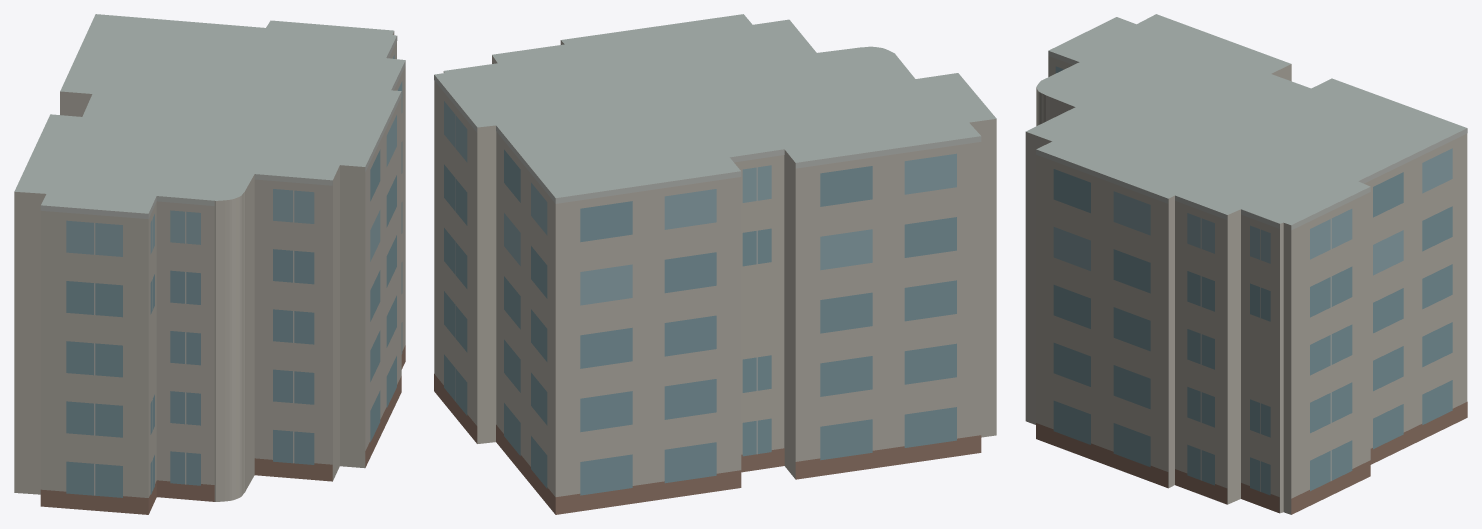
The model's file is survey-upis-32679581.glb.
3 views of the same model, side by side, from view 1: azimuth 30°, elevation 25°; view 2: azimuth 150°, elevation 25°; view 3: azimuth 270°, elevation 25° (orthographic). The views are drawn at different scales.
Parts seen in each view (by area): view 1: survey-upis-32679581.tmp; view 2: survey-upis-32679581.tmp; view 3: survey-upis-32679581.tmp.
Part boxes in pixels (x1,y1,x2,y2): survey-upis-32679581.tmp: (14, 14, 405, 514); survey-upis-32679581.tmp: (434, 14, 996, 514); survey-upis-32679581.tmp: (1025, 14, 1467, 514).
Bounding box in the file's own units: 21.13 × 13.5 × 18.68.
